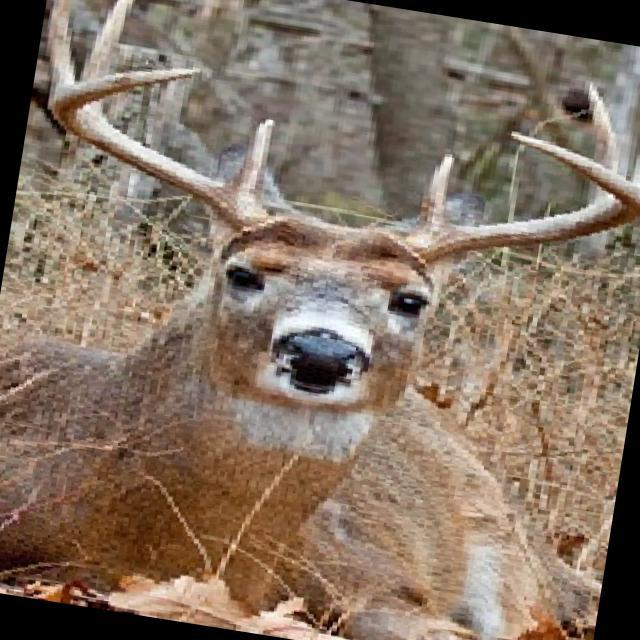L-F: (383, 130, 640, 268)
L-G1: (416, 154, 454, 227)
R-F: (53, 66, 280, 235)
R-G1: (224, 118, 275, 206)
